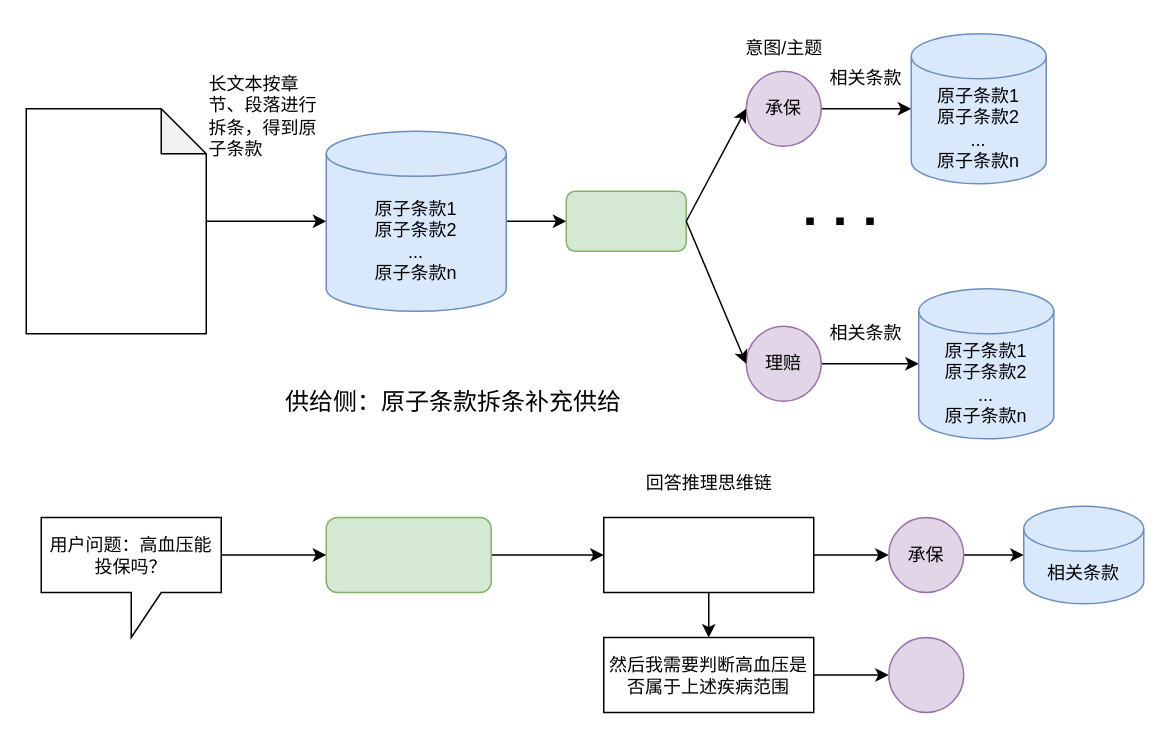
This 1170x738 diagram has some shape labels left out. Each missing label, with the box of its shape:
LLM 自主推理: (887, 636, 964, 712)
LLM复杂问题 拆解策划: (325, 516, 491, 592)
Product合同条款Doc: (25, 107, 206, 334)
聚类: (565, 190, 686, 251)
首先我需要了解xxx产品的承保疾病范围: (602, 516, 814, 592)
